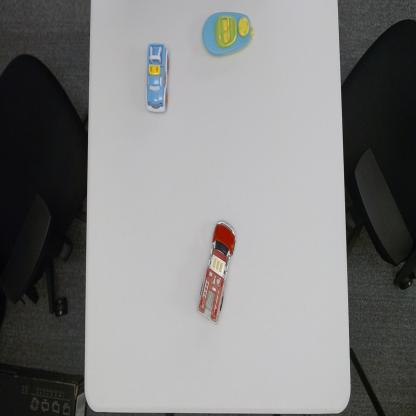Boat: (201, 10, 255, 58)
Car: (145, 40, 170, 115)
Firetruck: (196, 218, 237, 326)
